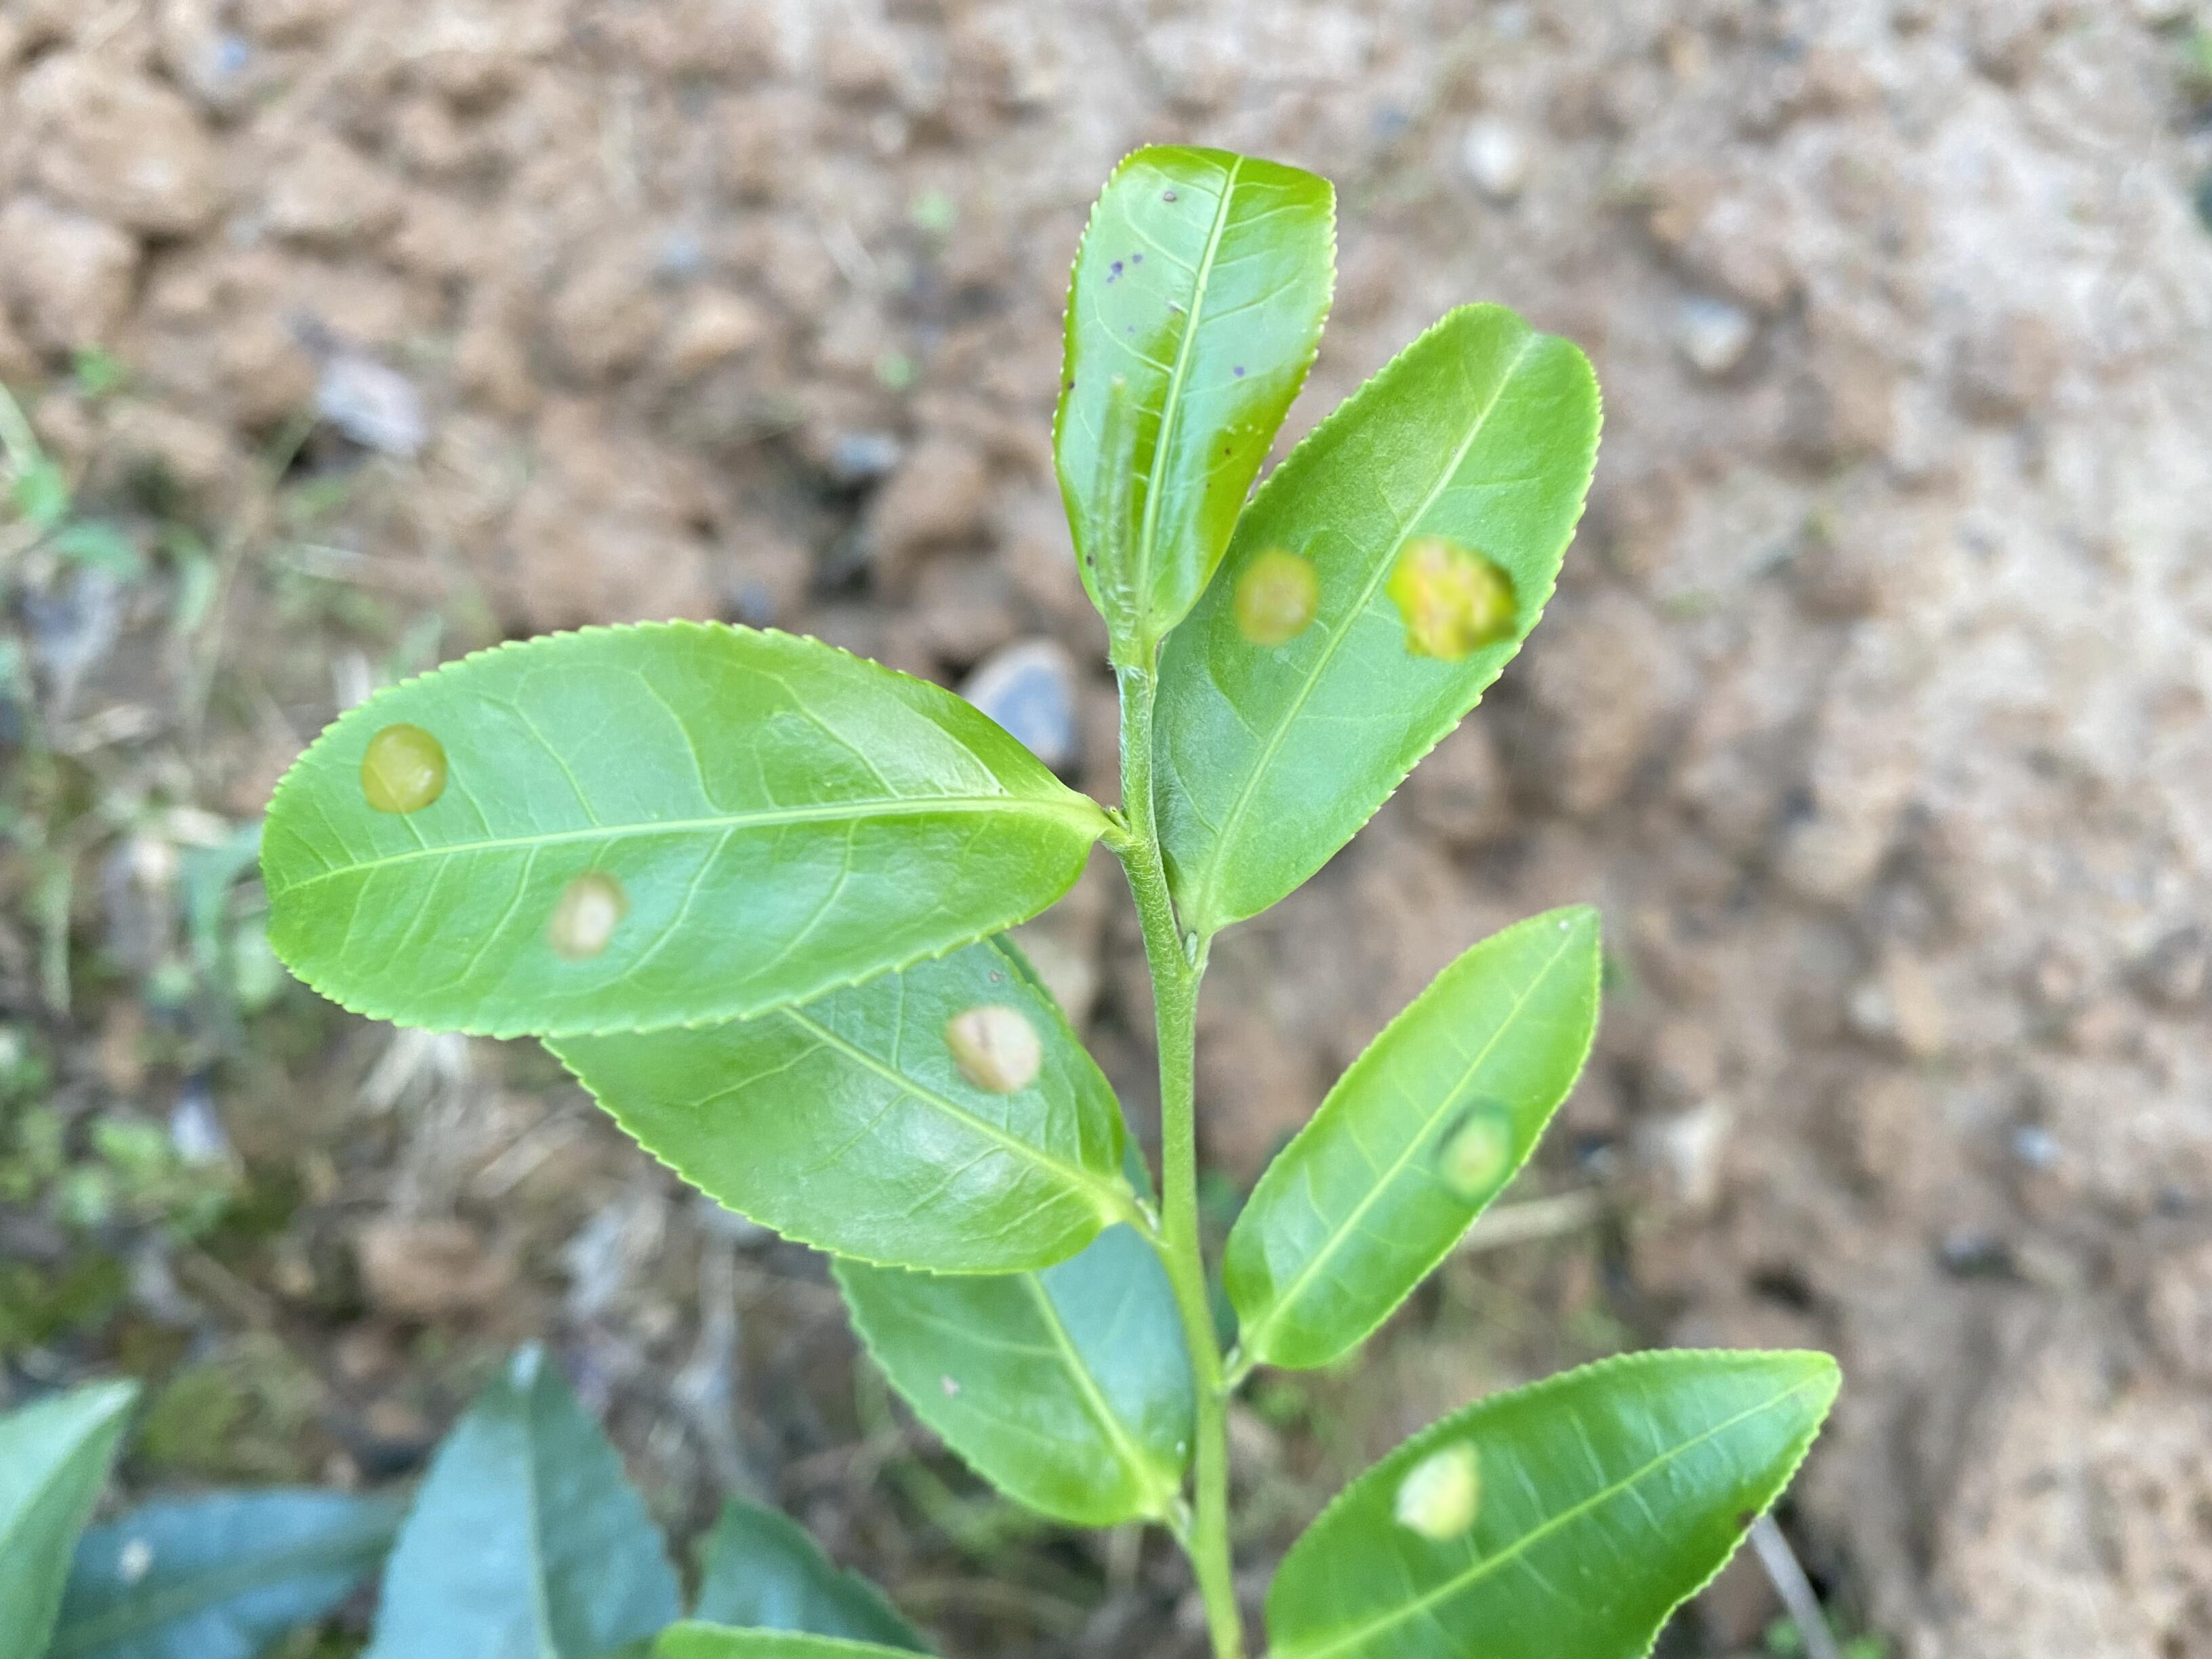chabing_high: (254, 617, 1106, 1040), (1160, 300, 1604, 932)
chabing_low: (543, 936, 1144, 1270), (1261, 1345, 1846, 1659), (1224, 903, 1606, 1361)
